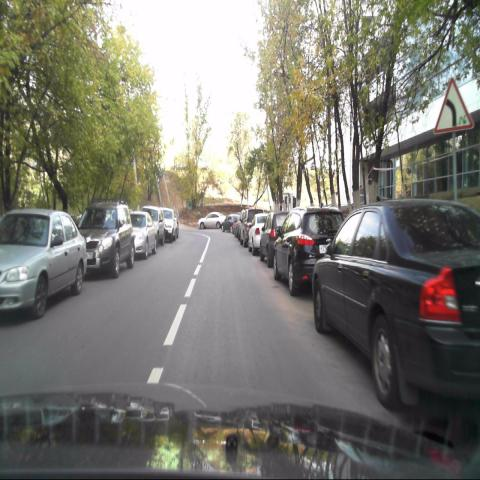1_11_1: (433, 76, 474, 134)
